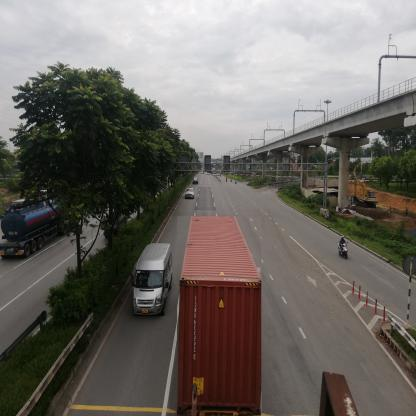car: (135, 246, 173, 317), (186, 189, 196, 201), (195, 177, 200, 185)
container: (178, 217, 262, 416)
motorbike: (339, 237, 351, 264)
